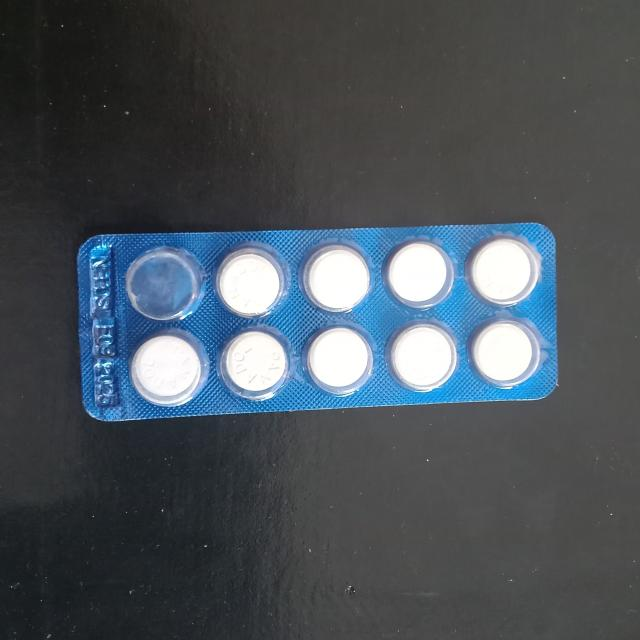defect: (116, 240, 209, 324)
